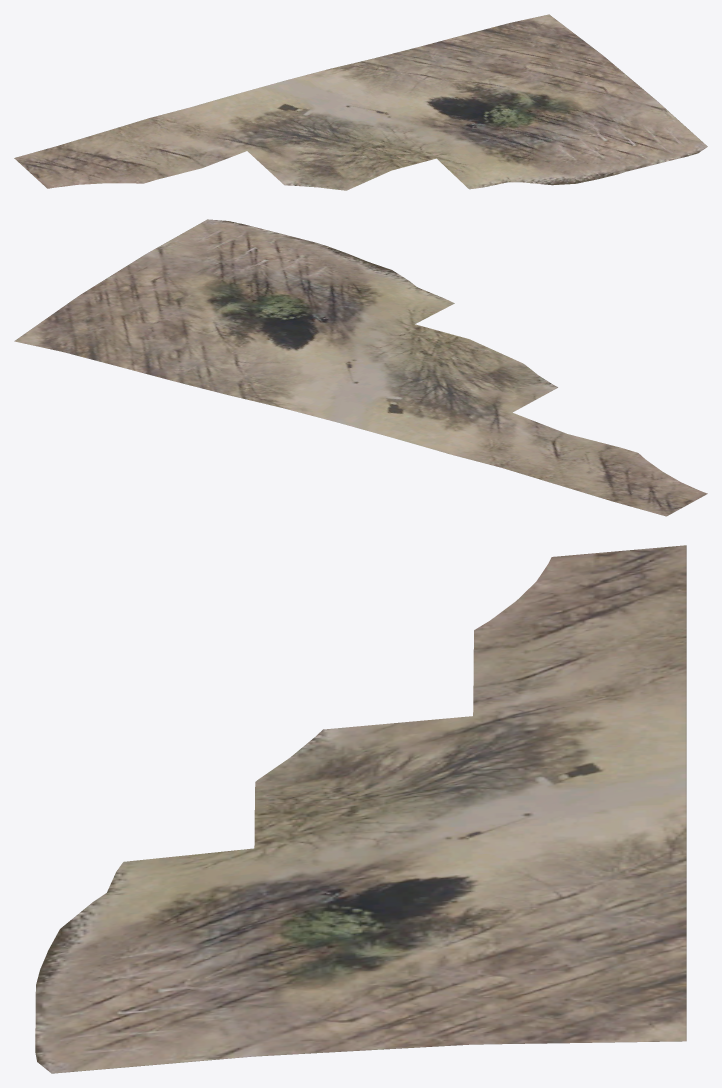
The model's file is CM_Terrain_24486773_6818770.fbx.
3 renders of one model, top to bottom at view 1: azimuth 30°, elevation 25°; view 2: azimuth 150°, elevation 25°; view 3: azimuth 270°, elevation 25°, orthographic. The views are drawn at different scales.
Visible parts, largest first — view 1: CM_Terrain_24486773_6818770_LOD0; view 2: CM_Terrain_24486773_6818770_LOD0; view 3: CM_Terrain_24486773_6818770_LOD0.
Part boxes in pixels (x1,y1,x2,y2): CM_Terrain_24486773_6818770_LOD0: (14, 14, 707, 190); CM_Terrain_24486773_6818770_LOD0: (14, 219, 707, 516); CM_Terrain_24486773_6818770_LOD0: (35, 545, 686, 1073).
Size of what is drawn, in the model's own units: 85.25 by 3.45 by 44.91.
